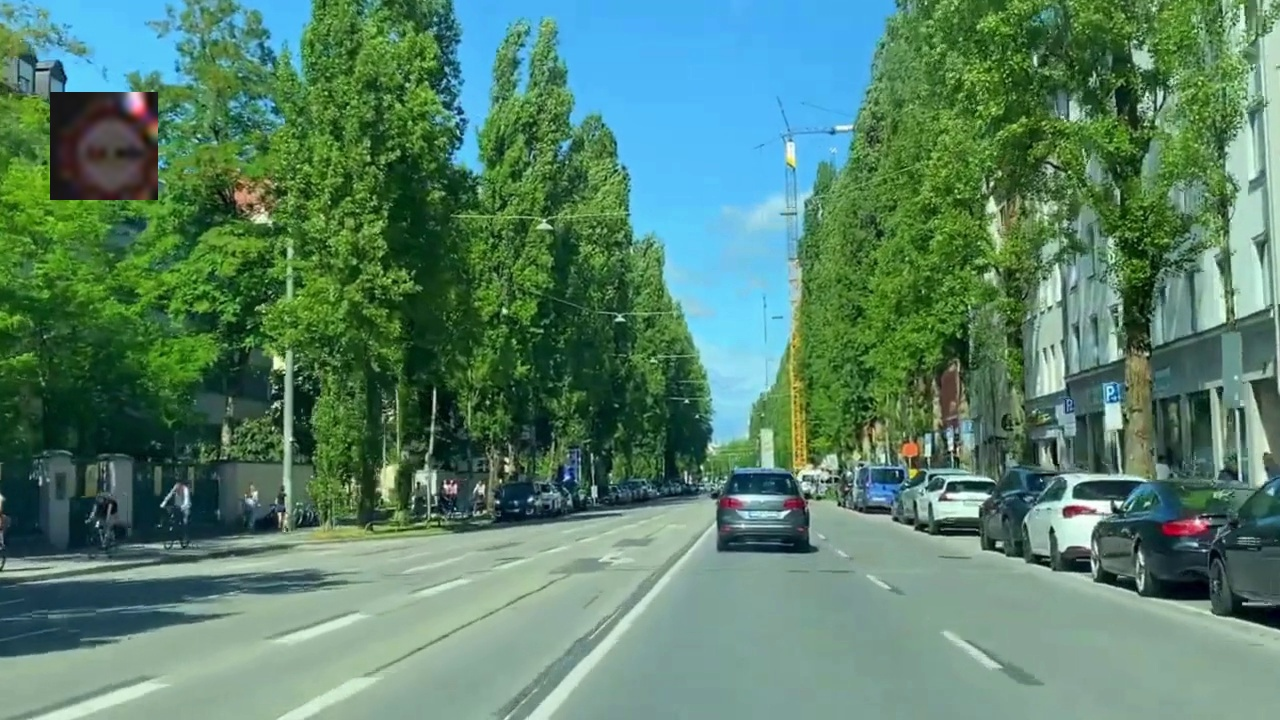No passing: (50, 92, 158, 200)
